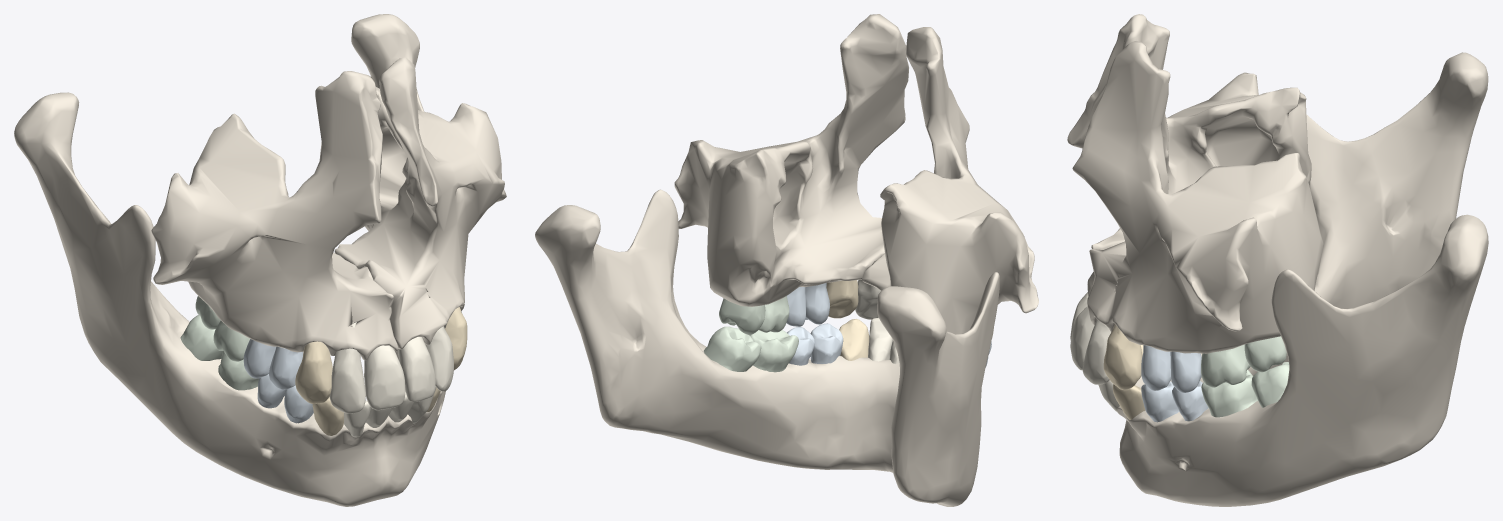
File: teeth.glb
3 views of the same model, side by side, from view 1: azimuth 30°, elevation 25°; view 2: azimuth 150°, elevation 25°; view 3: azimuth 270°, elevation 25° (orthographic). The views are drawn at different scales.
Visible parts, largest first — view 1: upper_jaw, lower_jaw, upper_incisors, upper_canines, lower_molars, upper_premolars, lower_incisors, lower_premolars, upper_molars, lower_canines; view 2: lower_jaw, upper_jaw, lower_molars, upper_molars, lower_premolars, upper_premolars, upper_canines, lower_canines, lower_incisors, upper_incisors; view 3: lower_jaw, upper_jaw, upper_molars, lower_molars, upper_incisors, upper_premolars, lower_premolars, upper_canines, lower_canines.
Boxes of the visible parts, box(x1,y1,x2,y2) form: upper_jaw: box(151, 57, 506, 360); lower_jaw: box(14, 14, 445, 506); upper_incisors: box(329, 289, 453, 413); upper_canines: box(295, 307, 467, 403); lower_molars: box(180, 315, 258, 390); upper_premolars: box(243, 311, 461, 389); lower_incisors: box(344, 386, 436, 437); lower_premolars: box(257, 374, 313, 423); upper_molars: box(195, 296, 249, 361); lower_canines: box(312, 387, 440, 435); lower_jaw: box(535, 189, 999, 506); upper_jaw: box(674, 14, 1038, 334); lower_molars: box(703, 326, 798, 372); upper_molars: box(719, 296, 789, 334); lower_premolars: box(787, 323, 843, 365); upper_premolars: box(786, 283, 991, 367); upper_canines: box(826, 280, 993, 337); lower_canines: box(839, 319, 869, 360); lower_incisors: box(868, 317, 899, 363); upper_incisors: box(855, 279, 880, 319); lower_jaw: box(1117, 52, 1488, 506); upper_jaw: box(1067, 14, 1323, 353); upper_molars: box(1201, 336, 1286, 387); lower_molars: box(1201, 362, 1289, 417); upper_incisors: box(1070, 281, 1117, 384); upper_premolars: box(1141, 345, 1201, 392); lower_premolars: box(1141, 381, 1208, 422); upper_canines: box(1103, 324, 1142, 389); lower_canines: box(1113, 345, 1145, 419).
Size of the model in its own units: 0.1064 by 0.1117 by 0.0942.
